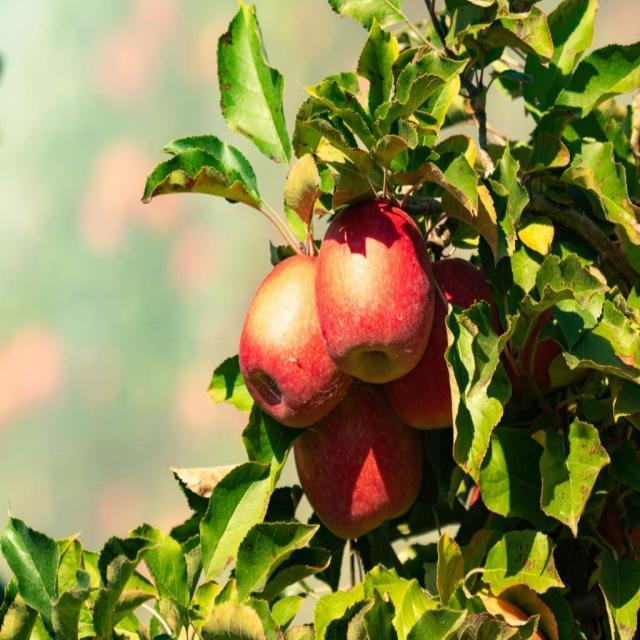Red Apple: (314, 201, 442, 375), (237, 245, 361, 416), (287, 386, 436, 515), (393, 258, 505, 422)
